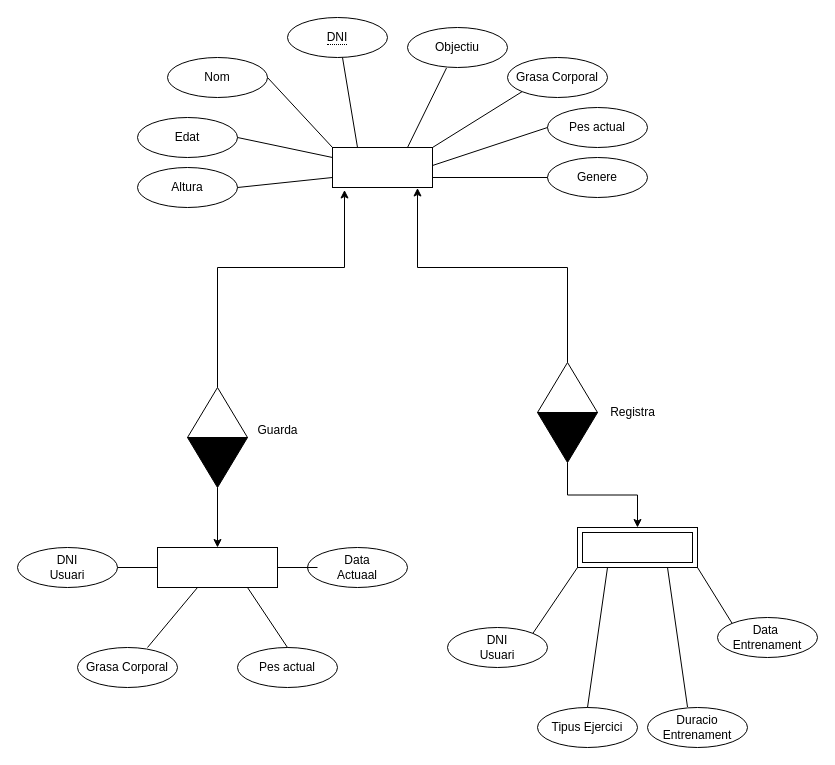
Image size: 835x765. Some labels were removed from this diagram. Here are the shapes that lost their labels. From the top down, the centre of each, then its label:
(382,167): Usuari
(217,567): Progres
(637,547): Registre Entrenaments
